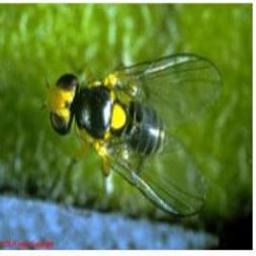liriomyza: (43, 52, 221, 218)
